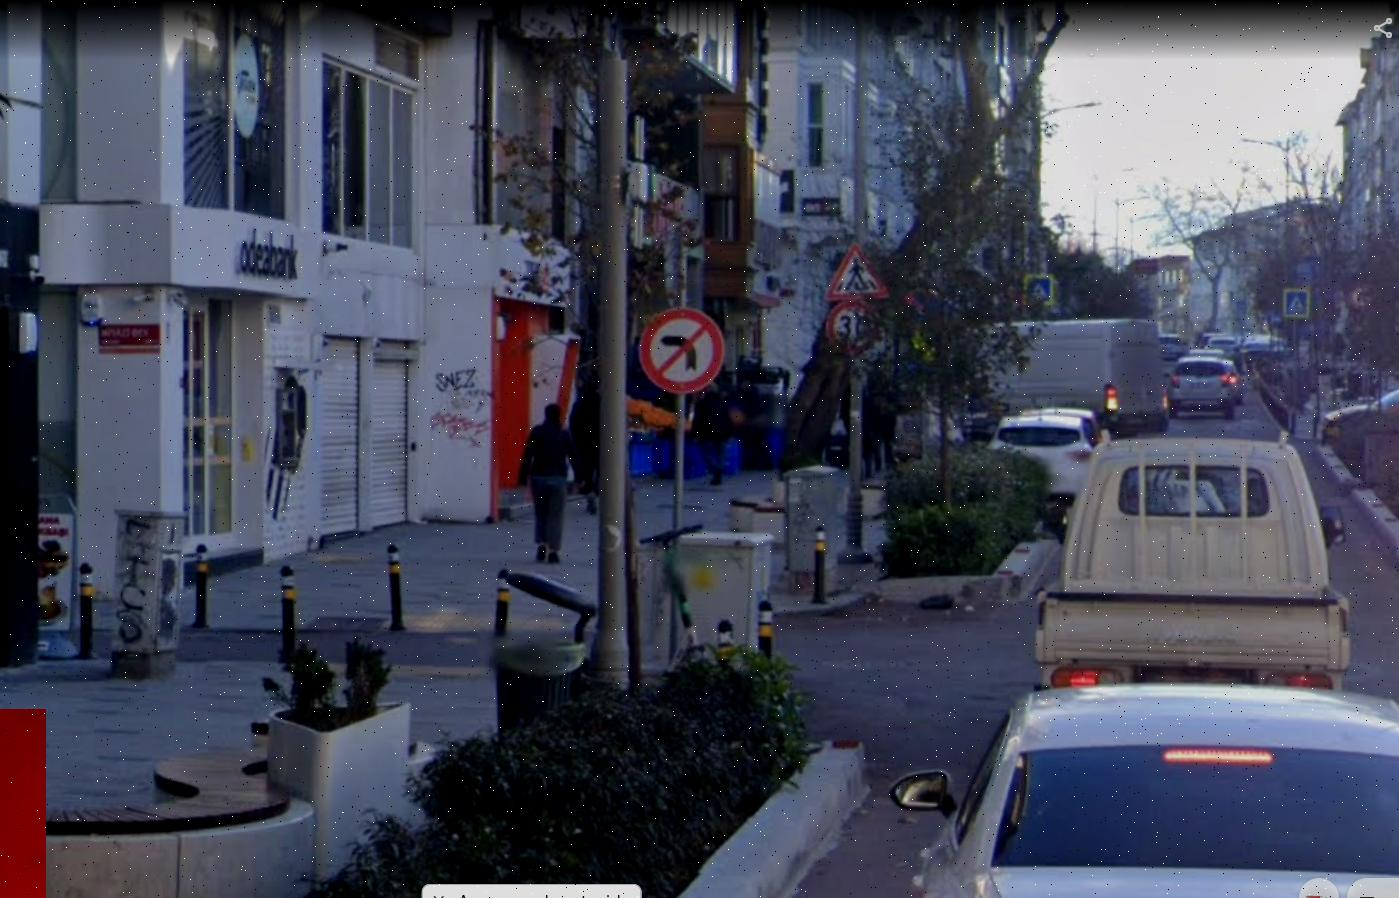leftturnsareforbidden: (646, 316, 728, 397)
